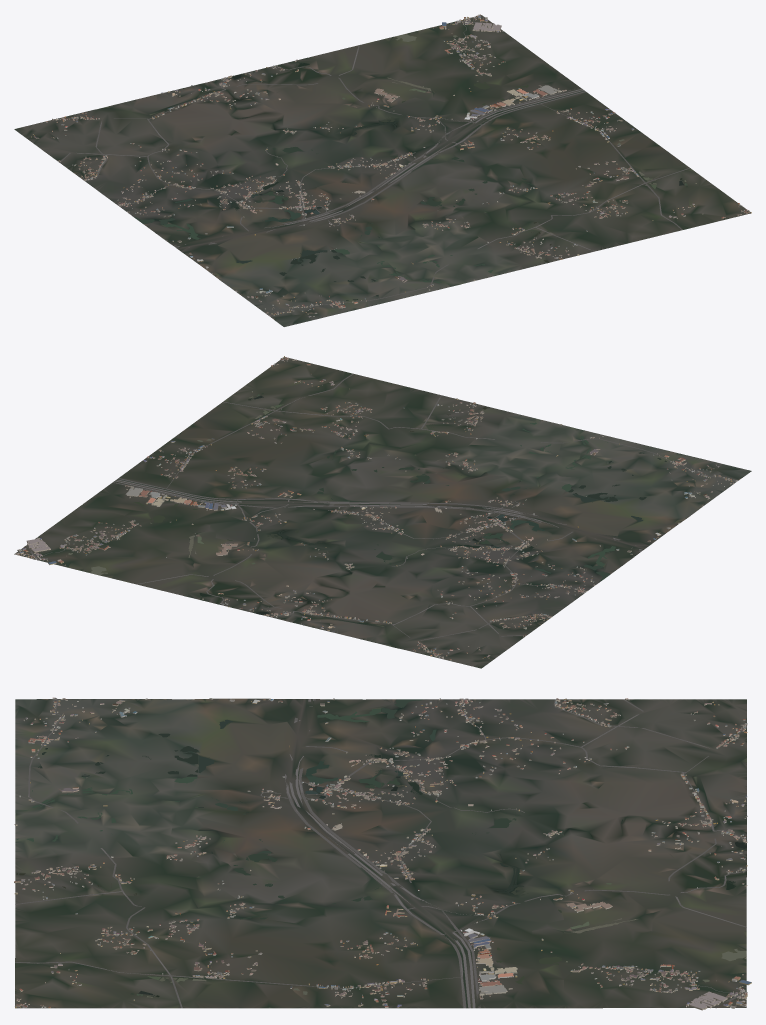
The picture shows the model from 3 angles, top to bottom: view 1: azimuth 30°, elevation 25°; view 2: azimuth 150°, elevation 25°; view 3: azimuth 270°, elevation 25°; orthographic projection. The views are drawn at different scales.
Visible parts, largest first — view 1: ground, buildings, roads, water; view 2: ground, buildings, roads, water; view 3: ground, buildings, roads, water.
Part boxes in pixels (x1,y1,x2,y2): ground: [14, 15, 750, 326]; buildings: [31, 14, 751, 317]; roads: [59, 21, 750, 315]; water: [134, 33, 687, 300]; ground: [14, 357, 751, 668]; buildings: [15, 356, 737, 660]; roads: [26, 357, 736, 658]; water: [68, 393, 666, 614]; ground: [15, 698, 746, 1008]; buildings: [14, 697, 751, 1010]; roads: [15, 699, 747, 1008]; water: [16, 699, 746, 997].
Bounding box in the file's own units: 5650 × 36.6 × 5656.
